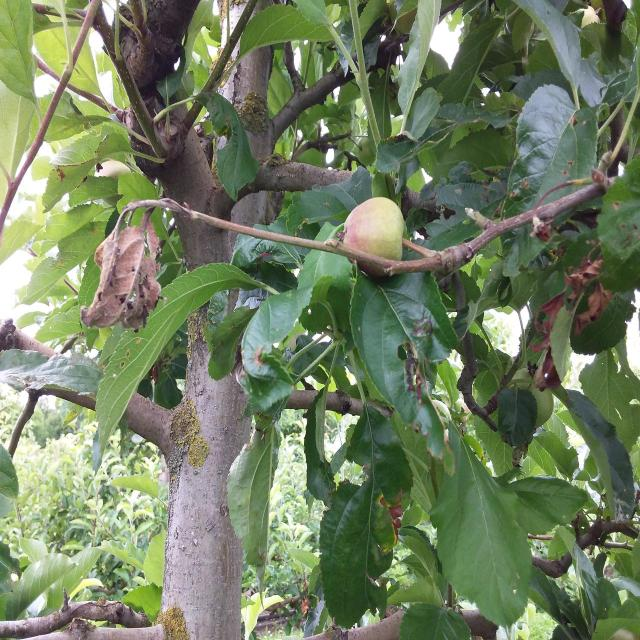-FireBlight-: (79, 192, 202, 339), (525, 251, 619, 393)
